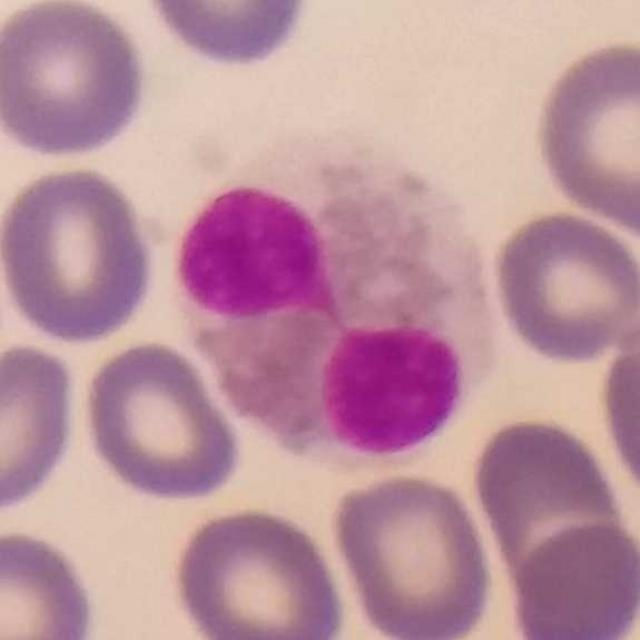eosino: (175, 142, 510, 472)
